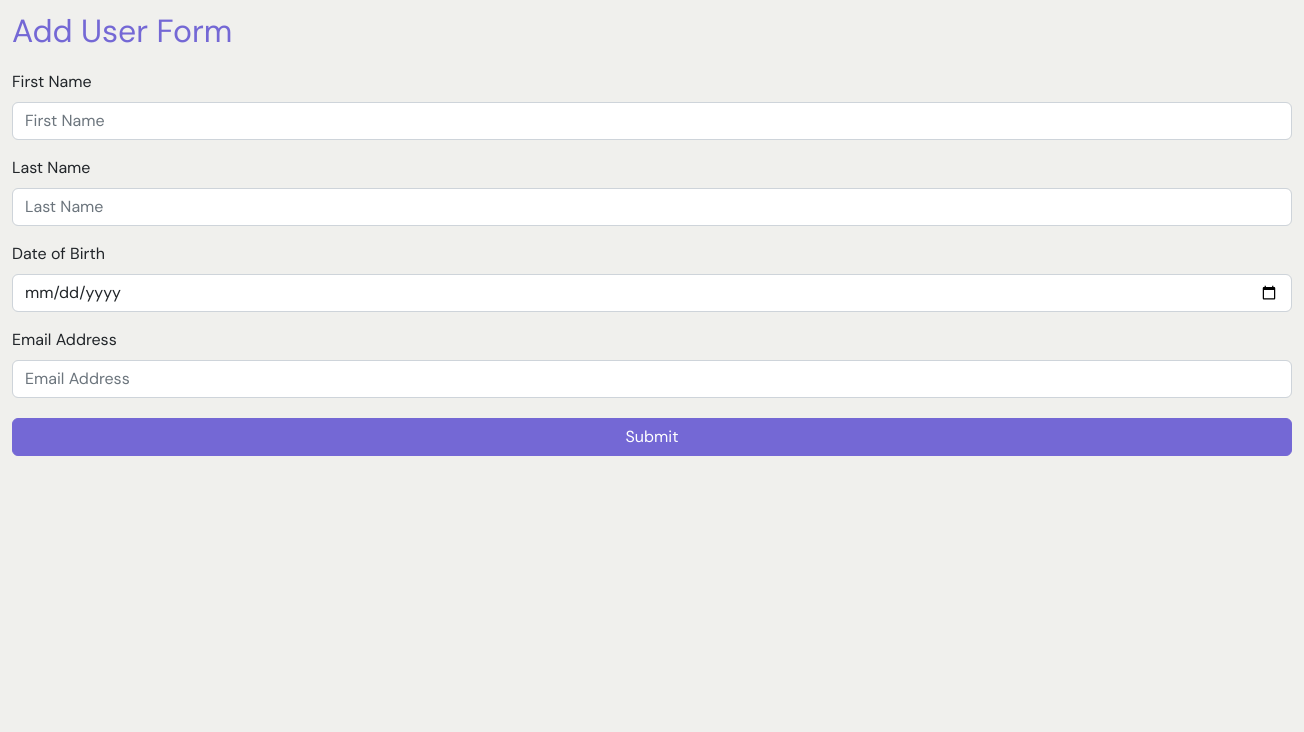
Test: UserForm › renders form and submits inalid email address, dsiplays error
This screenshot has width=1304, height=732.
// Add invalid email and click submit
In the field labelled "Email Address": (652, 379) top-left (12, 360), bottom-right (1292, 398), type "craig"
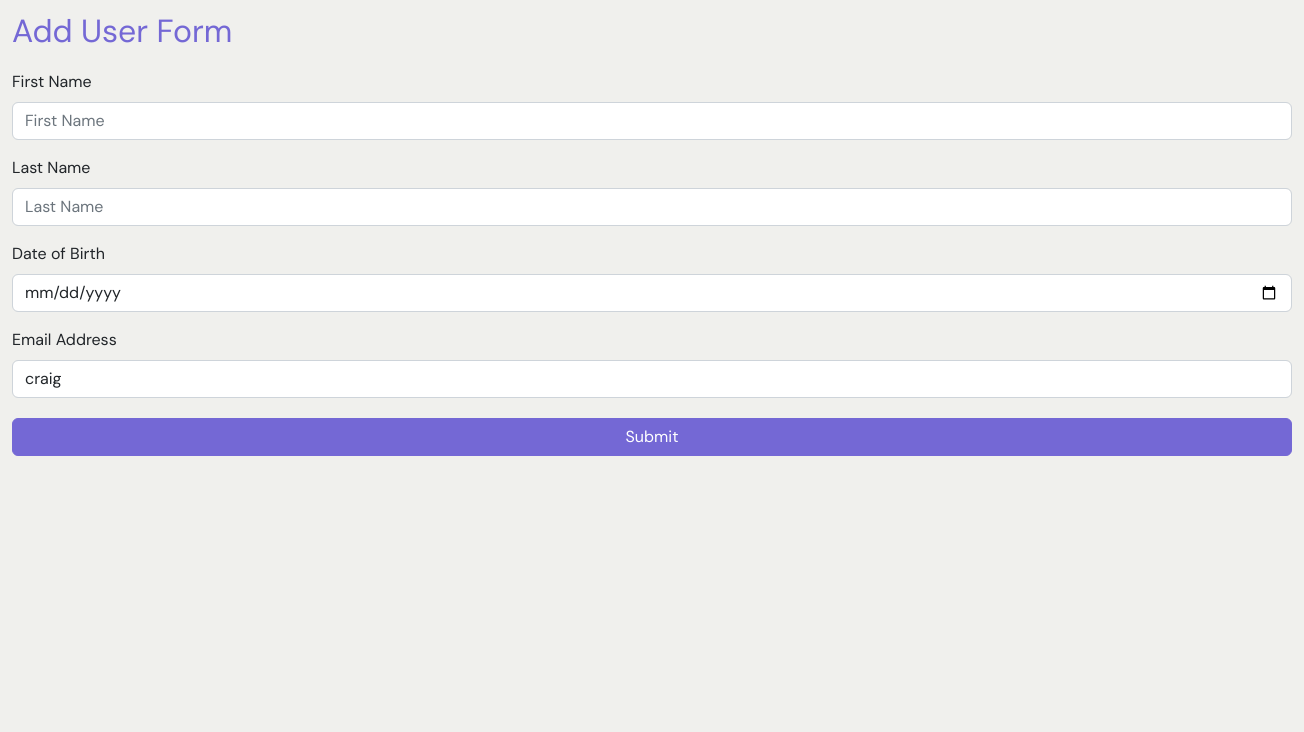
Click the button "Submit": (652, 437) top-left (12, 418), bottom-right (1292, 456)
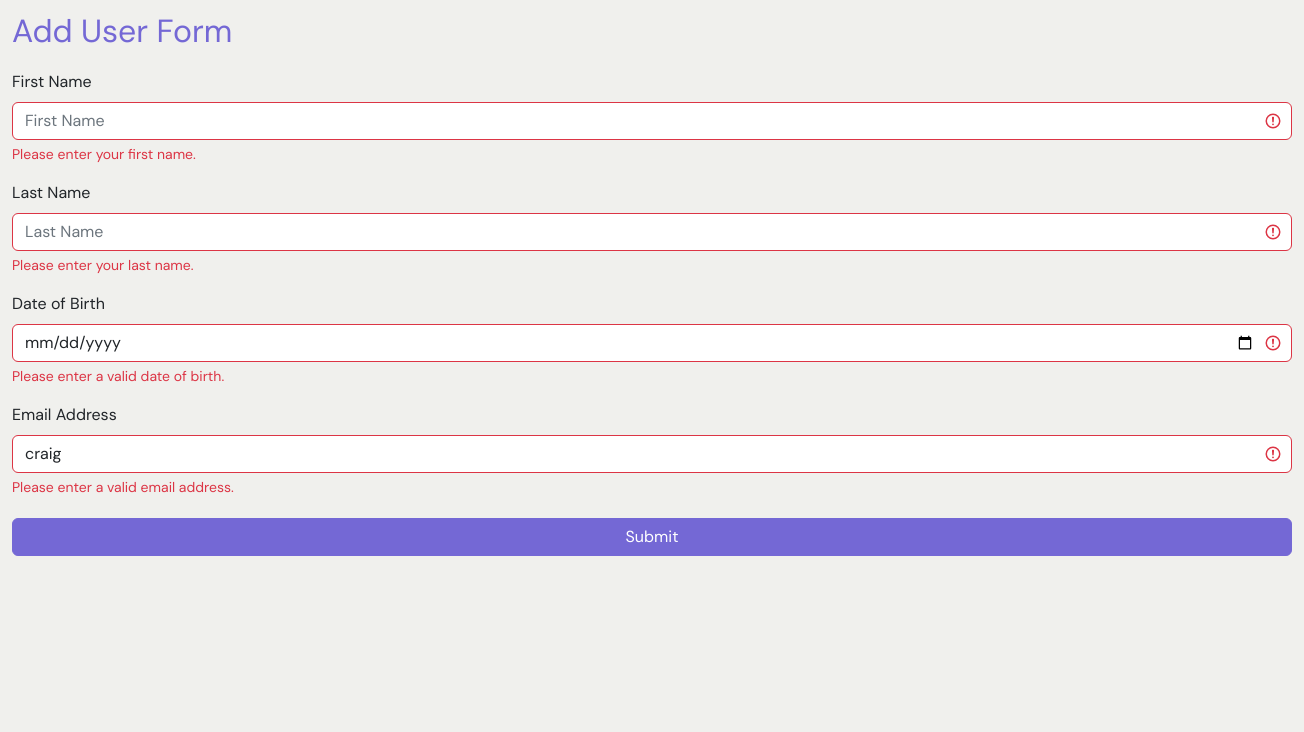
Now the text "Please enter a valid email address." is shown, box top-left (12, 478), bottom-right (234, 496)
